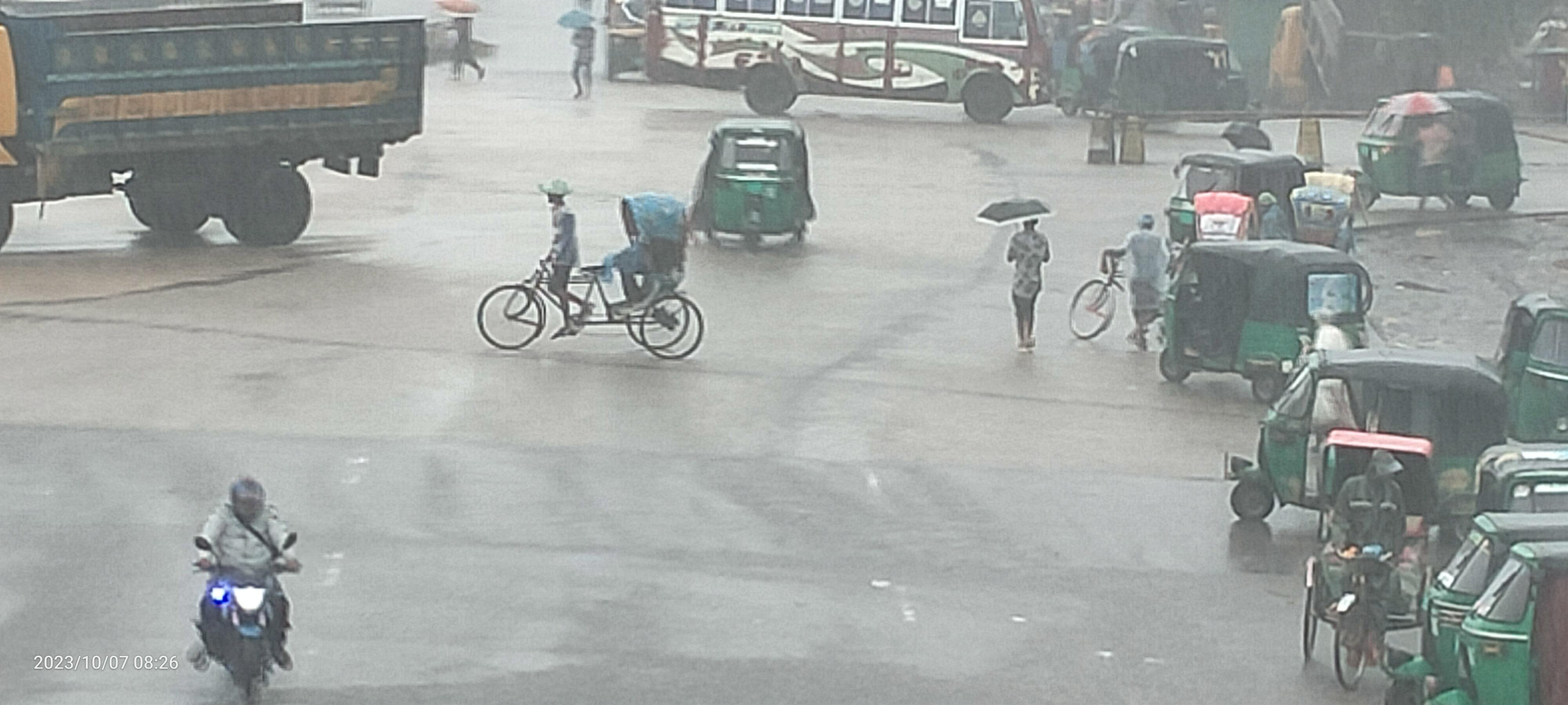Bike: (147, 425, 364, 700)
Bus: (594, 0, 1110, 150)
Car: (459, 161, 721, 407), (1270, 400, 1460, 697)
Truck: (0, 0, 469, 302)
